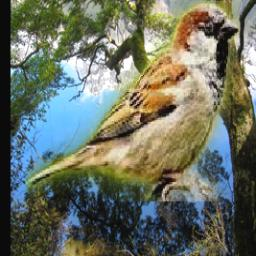Sparrow: (27, 2, 241, 202)
